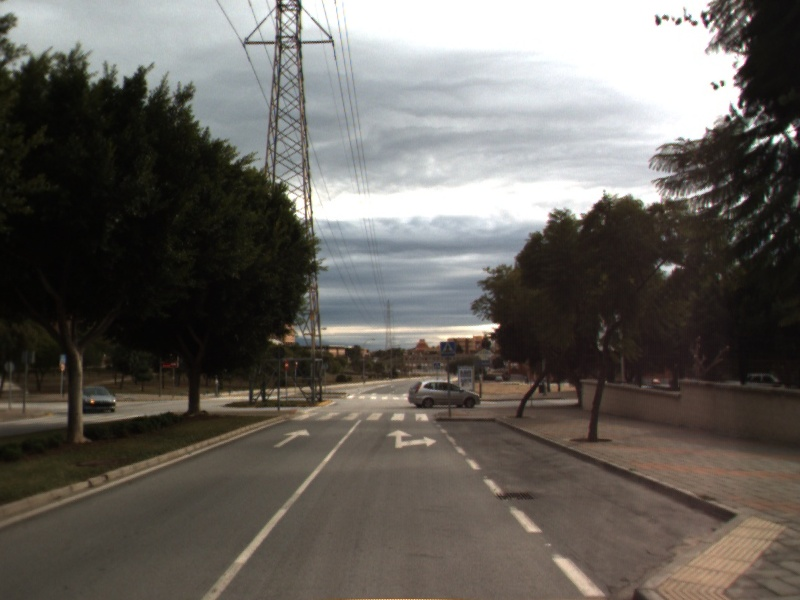STRAIGHT: (271, 426, 312, 450)
STRAIGHT_RIGHT: (384, 427, 439, 450)
